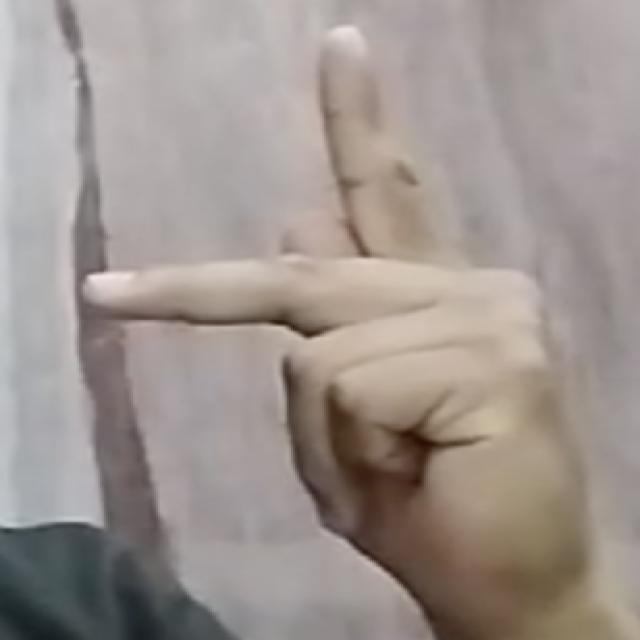P: (74, 13, 617, 606)
